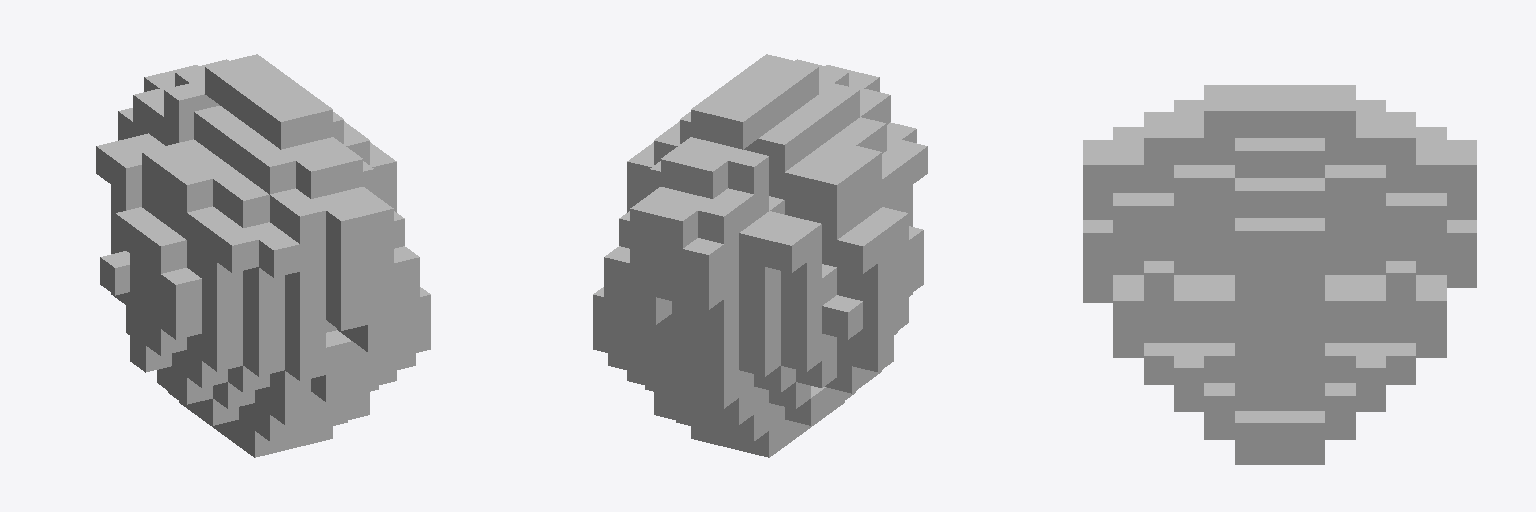
Rendered from golem-6-New Piskel.obj.
3 views of the same model, side by side, from view 1: azimuth 30°, elevation 25°; view 2: azimuth 150°, elevation 25°; view 3: azimuth 270°, elevation 25° (orthographic).
Parts seen in each view (by area): view 1: New Piskel; view 2: New Piskel; view 3: New Piskel.
Boxes of the visible parts, x1=… form: New Piskel: x1=96, y1=54, x2=430, y2=457; New Piskel: x1=593, y1=54, x2=927, y2=457; New Piskel: x1=1083, y1=85, x2=1476, y2=464.
Bounding box in the file's own units: 0.9 × 1.2 × 1.3.